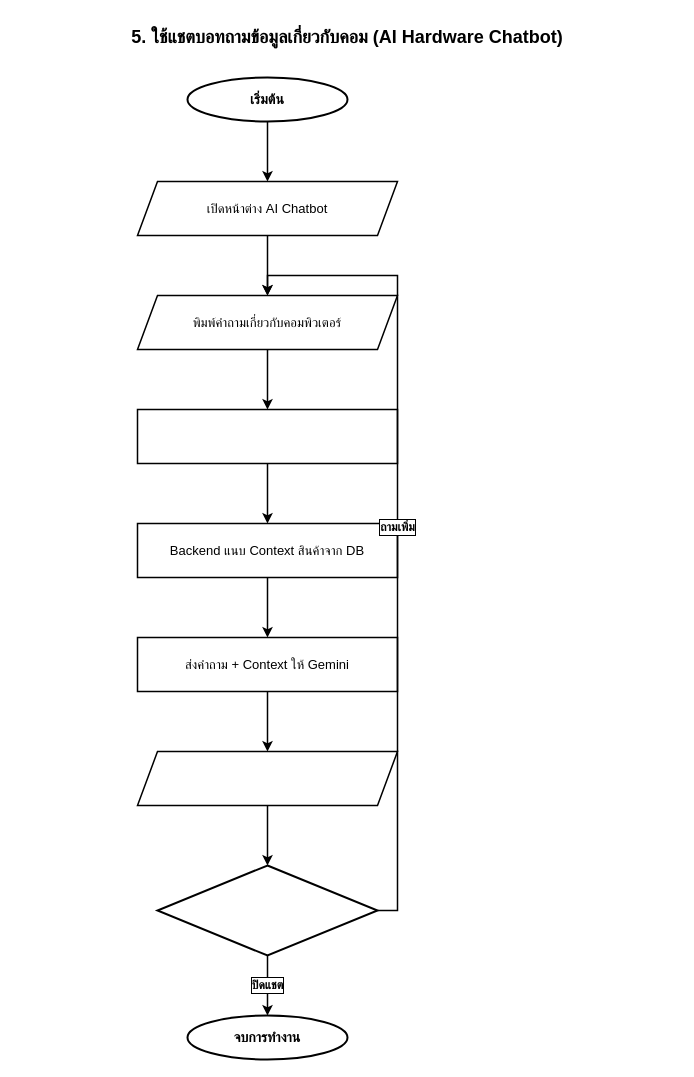
The diagram is 694 pixels wide and 1077 high, and some of its shapes have lost their labels. Each missing label, with the centre of its shape:
"ต้องการถามเพิ่มเติมหรือไม่?" belongs at [267,910].
"ส่ง POST /api/chatbot/message" belongs at [267,436].
"แสดงข้อความคำตอบบนหน้าต่างแชต" belongs at [267,778].
